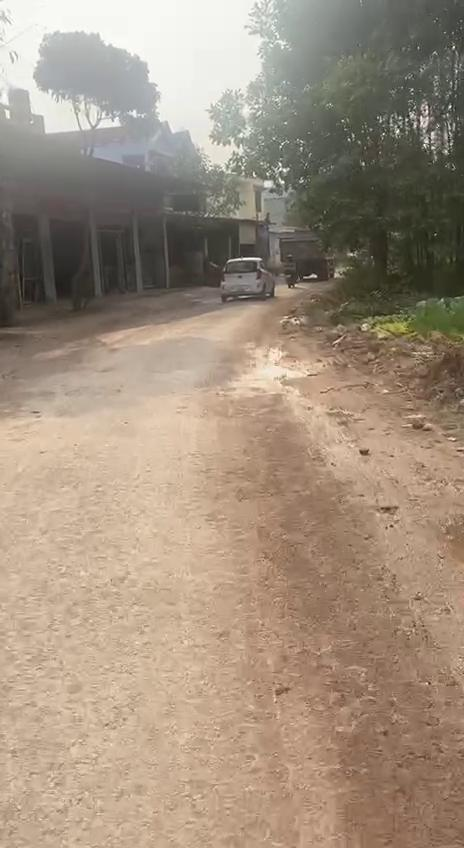pothole: (247, 357, 306, 384)
